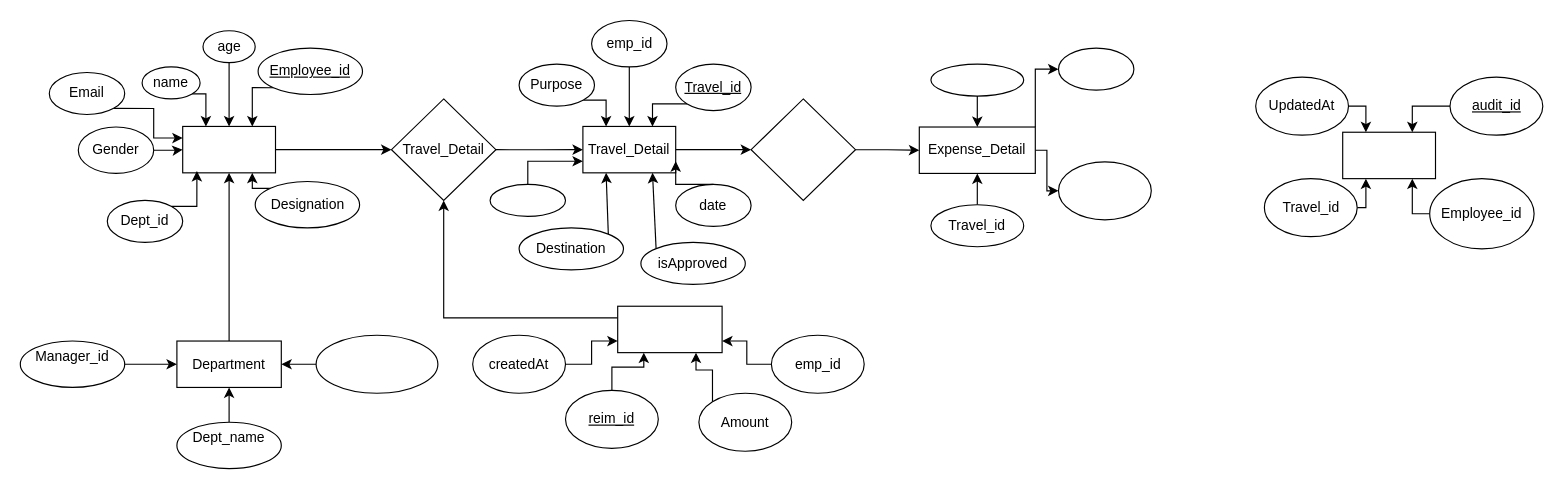
Image size: 1564x490. Some labels were removed from this diagram. Here are the shapes that lost their labels. From the top down, the box of each, then its label:
(930, 63, 1024, 96): Expense
(1057, 47, 1134, 90): Type
(182, 125, 276, 173): Employee
(750, 98, 855, 200): ExpenseDetail
(1342, 131, 1436, 179): AuditLog
(489, 183, 566, 216): Stay
(1057, 161, 1151, 220): Expense_id
(617, 305, 722, 353): reimbursement
(315, 334, 438, 393): Department_id
